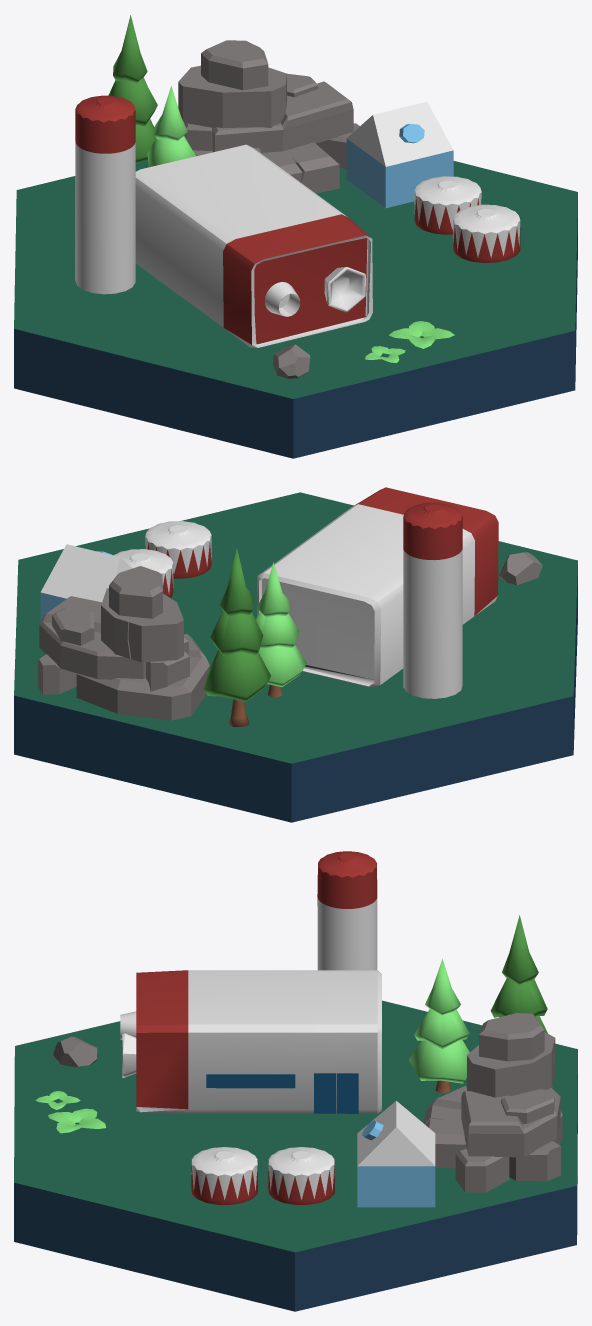
File: Macro - Electric lvl 1 WM2.fbx
3 views of the same model, one above another, from view 1: azimuth 30°, elevation 25°; view 2: azimuth 150°, elevation 25°; view 3: azimuth 270°, elevation 25° (orthographic).
Visible parts, largest first — view 1: Cylinder.154, Cube battery.011, Rock Type1 02 mesh.013, Cylinder battery.005, milkbox1.011, Cylinder battery.002, Tree_Spruce_tiny_01.002, Cylinder battery.001, Tree_Spruce_tiny_01.001, Rock Type2 04 mesh.005, Plane.011; view 2: Cylinder.154, Cube battery.011, Rock Type1 02 mesh.013, Cylinder battery.005, Tree_Spruce_tiny_01.002, Tree_Spruce_tiny_01.001, milkbox1.011, Cylinder battery.002, Cylinder battery.001, Rock Type2 04 mesh.005; view 3: Cylinder.154, Cube battery.011, Rock Type1 02 mesh.013, milkbox1.011, Cylinder battery.005, Tree_Spruce_tiny_01.001, Cylinder battery.002, Cylinder battery.001, Tree_Spruce_tiny_01.002, Plane.002, Rock Type2 04 mesh.005, Plane.001 (+2 smaller).
Part boxes in pixels (x1,y1,x2,y2): Cylinder.154: [14, 161, 577, 458]; Cube battery.011: [135, 144, 372, 347]; Rock Type1 02 mesh.013: [178, 40, 359, 193]; Cylinder battery.005: [75, 95, 135, 294]; milkbox1.011: [346, 101, 453, 208]; Cylinder battery.002: [453, 204, 520, 262]; Tree_Spruce_tiny_01.002: [108, 15, 157, 163]; Cylinder battery.001: [414, 176, 481, 234]; Tree_Spruce_tiny_01.001: [147, 86, 196, 167]; Rock Type2 04 mesh.005: [273, 344, 310, 378]; Plane.011: [389, 321, 454, 348]; Cylinder.154: [14, 492, 577, 822]; Cube battery.011: [257, 487, 498, 687]; Rock Type1 02 mesh.013: [38, 566, 209, 720]; Cylinder battery.005: [403, 502, 462, 698]; Tree_Spruce_tiny_01.002: [204, 548, 270, 726]; Tree_Spruce_tiny_01.001: [255, 562, 306, 697]; milkbox1.011: [40, 544, 132, 620]; Cylinder battery.002: [145, 521, 211, 578]; Cylinder battery.001: [113, 549, 173, 597]; Rock Type2 04 mesh.005: [499, 552, 542, 584]; Cylinder.154: [14, 1000, 577, 1311]; Cube battery.011: [120, 970, 381, 1113]; Rock Type1 02 mesh.013: [423, 1013, 562, 1192]; milkbox1.011: [357, 1100, 435, 1207]; Cylinder battery.005: [317, 851, 377, 970]; Tree_Spruce_tiny_01.001: [409, 958, 469, 1093]; Cylinder battery.002: [191, 1147, 258, 1204]; Cylinder battery.001: [268, 1147, 334, 1204]; Tree_Spruce_tiny_01.002: [490, 915, 547, 1033]; Plane.002: [206, 1074, 295, 1088]; Rock Type2 04 mesh.005: [53, 1036, 97, 1067]; Plane.001: [336, 1073, 358, 1113].
Size of the model in its own units: 197 by 80.5 by 172.
